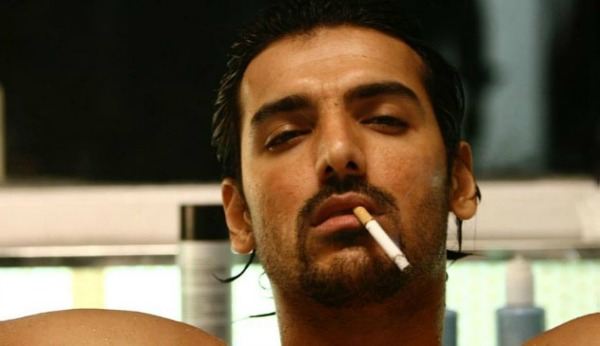cigarette: (339, 197, 423, 282)
